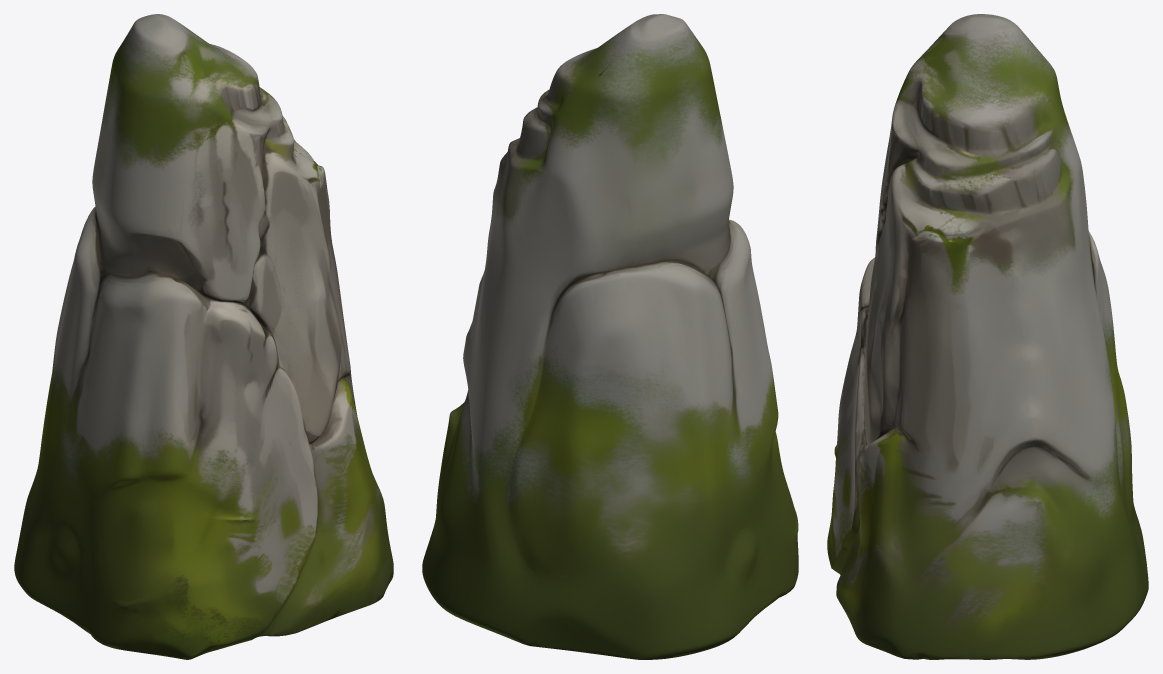
File: stone_broken_tapered_hunyuan_2026-11-14_83a7623e.glb
3 views of the same model, side by side, from view 1: azimuth 30°, elevation 25°; view 2: azimuth 150°, elevation 25°; view 3: azimuth 270°, elevation 25° (orthographic). The views are drawn at different scales.
Visible parts, largest first — view 1: node_0; view 2: node_0; view 3: node_0.
Boxes of the visible parts, x1=… form: node_0: x1=14, y1=14, x2=393, y2=659; node_0: x1=422, y1=14, x2=798, y2=659; node_0: x1=827, y1=14, x2=1148, y2=659.
Size of the model in its own units: 0.5794 by 1.02 by 0.5393.
Materials: 1 (1 with a texture image).
